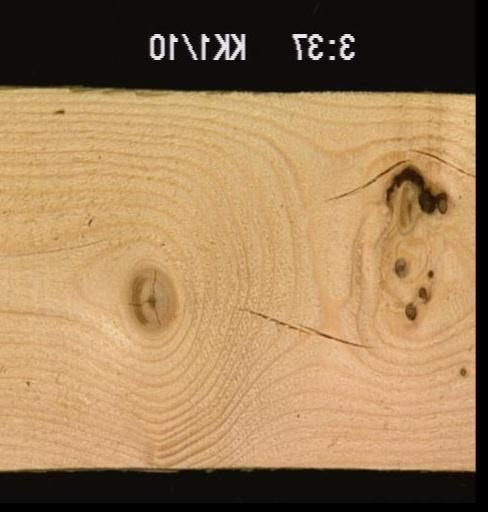dry_knot: (416, 284, 428, 300)
small_knot: (425, 266, 434, 278), (457, 364, 466, 376)
sound_knot: (126, 266, 178, 335), (393, 255, 406, 277), (402, 300, 416, 320)
split: (234, 304, 375, 348), (319, 156, 407, 201), (406, 146, 473, 178)
